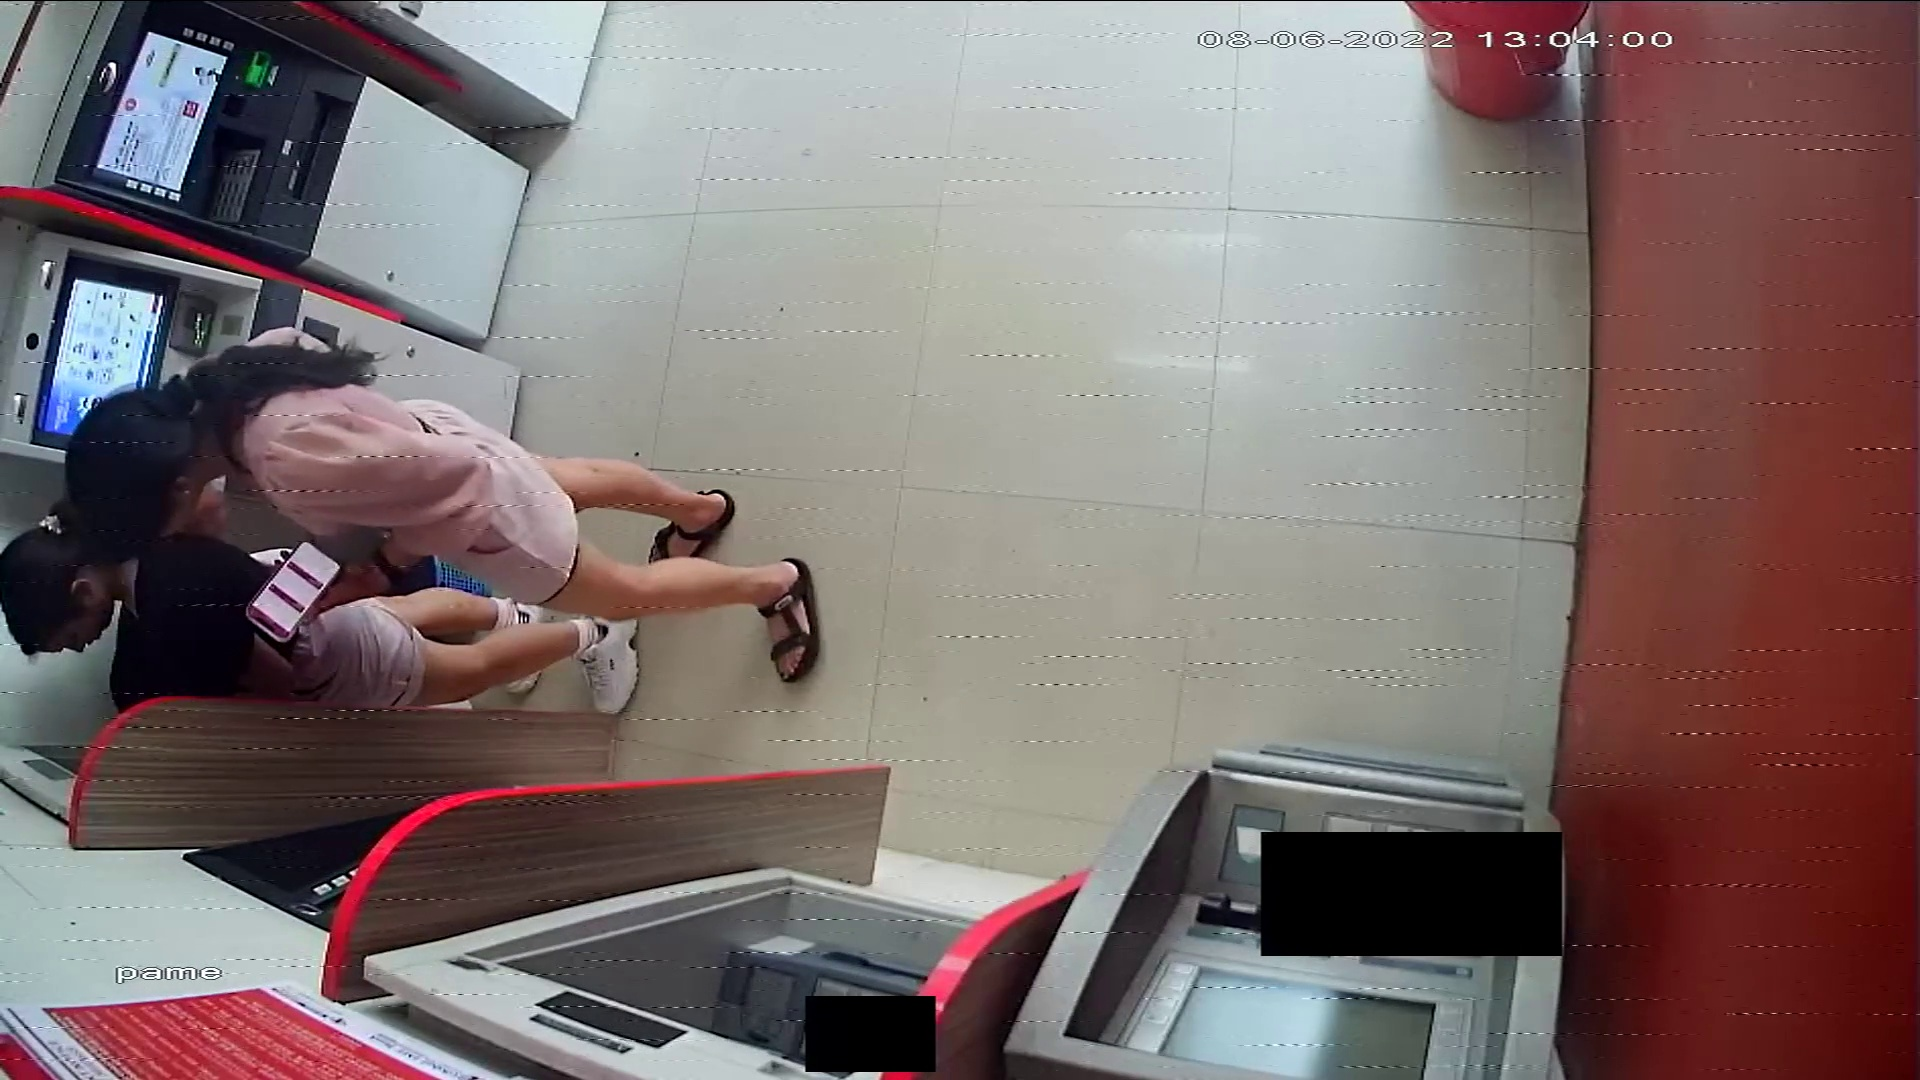person: (66, 321, 824, 689), (3, 506, 638, 726)
phone: (241, 540, 343, 643)
